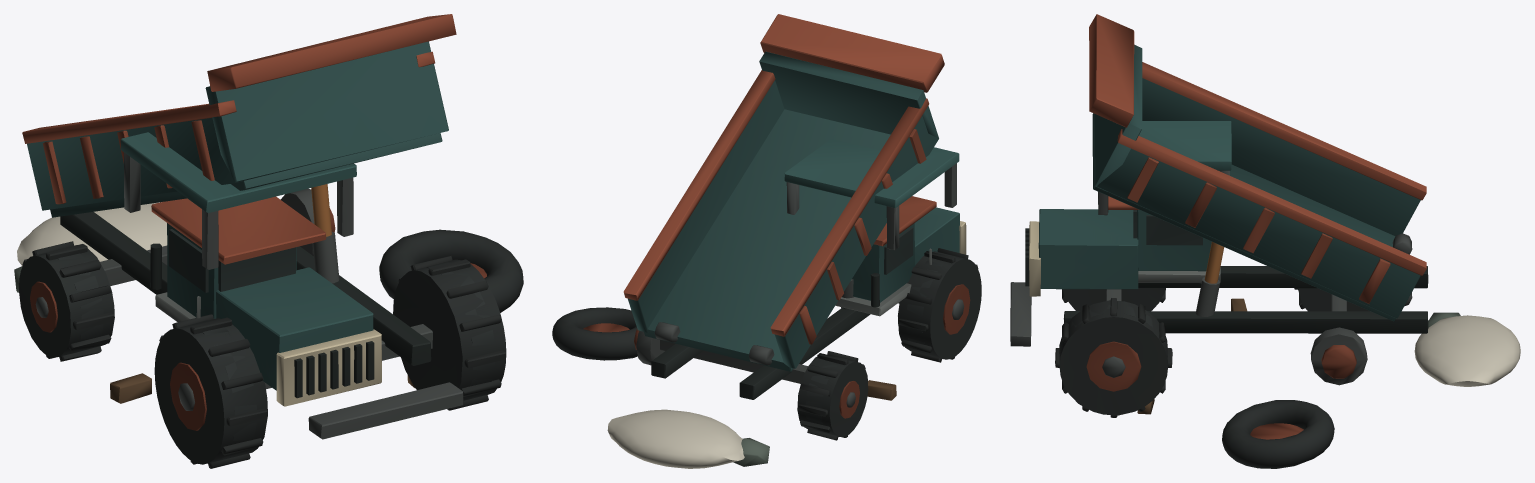
File: haul_truck_b_lod1.glb
The picture shows the model from 3 angles, left to right: view 1: azimuth 30°, elevation 25°; view 2: azimuth 150°, elevation 25°; view 3: azimuth 270°, elevation 25°; orthographic projection. The views are drawn at different scales.
Visible parts, largest first — view 1: Surface.001; view 2: Surface.001; view 3: Surface.001.
Boxes of the visible parts, left/top/right/bottom form: Surface.001: left=14, top=14, right=523, bottom=468; Surface.001: left=552, top=14, right=981, bottom=468; Surface.001: left=1010, top=14, right=1520, bottom=468.
Size of the model in its own units: 10.95 by 9.65 by 14.28.
